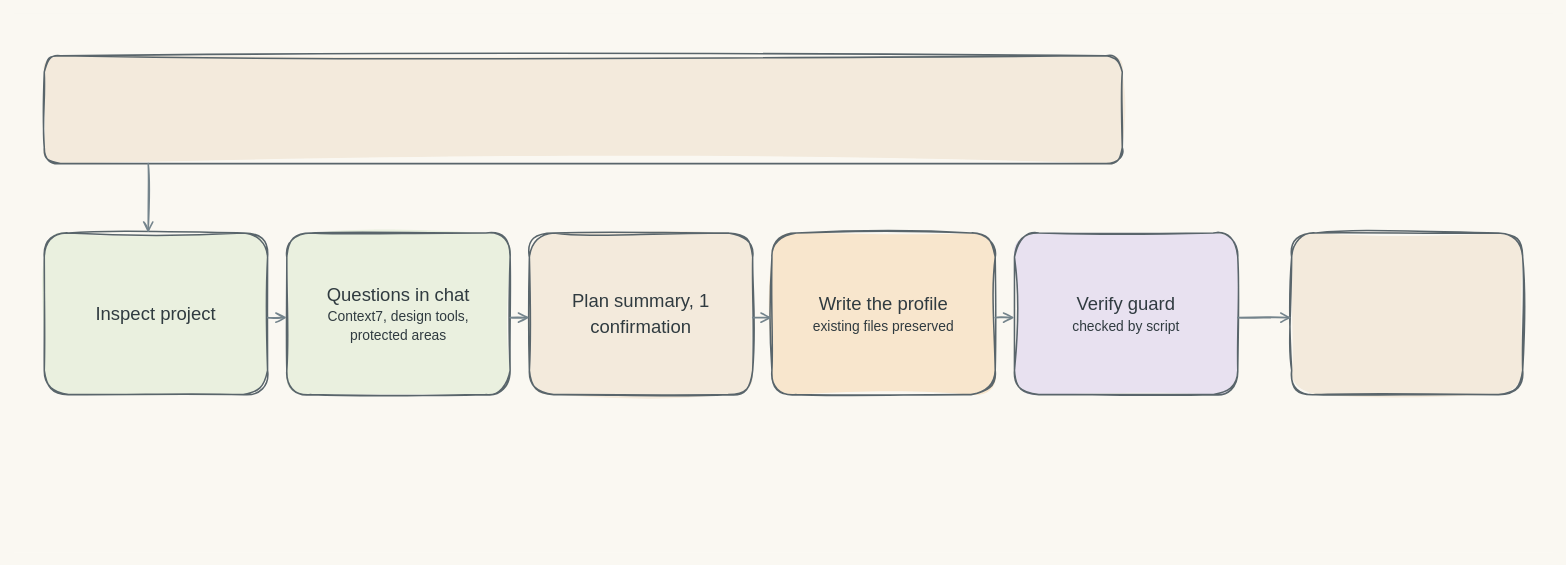
This 1566x565 diagram has some shape labels left out. Each missing label, with the box of its shape:
Call /subagent-workflow:run when you need it: (1291, 232, 1523, 395)
Run /subagent-workflow:setup to set up the subagent workflow in this project: (43, 55, 1123, 164)
